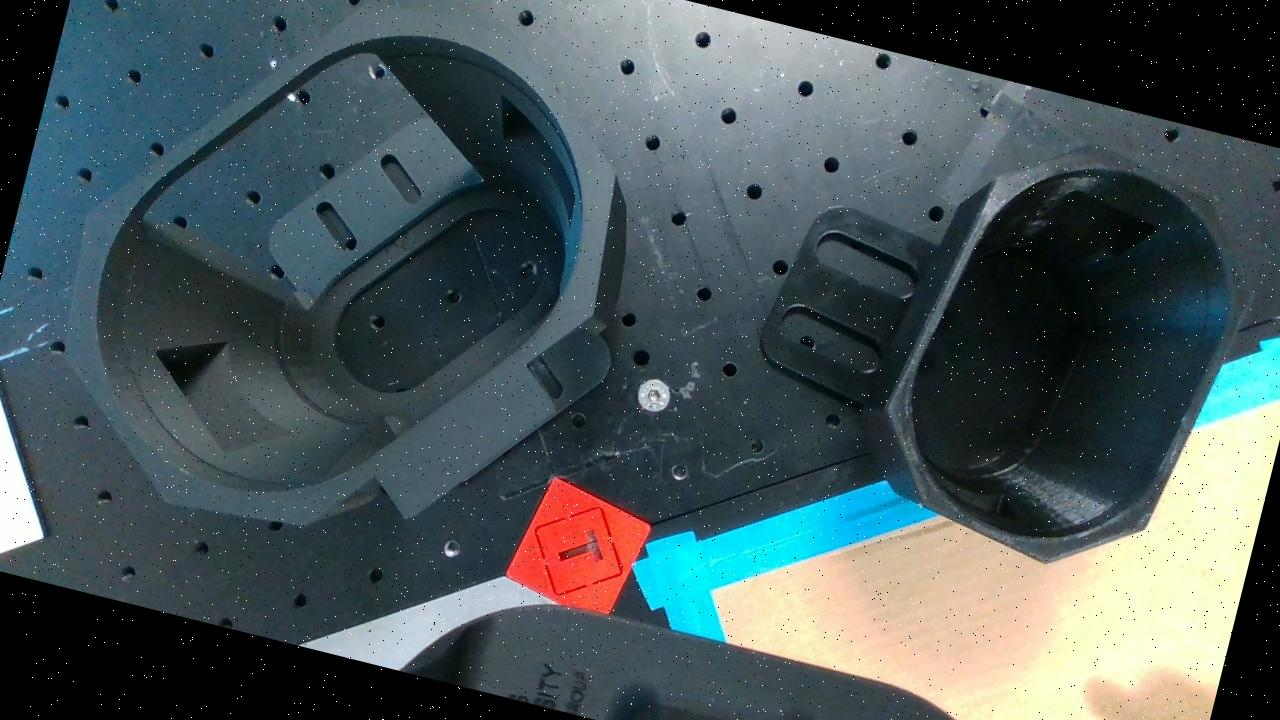big_interface: (22, 0, 657, 593)
small_interface: (859, 109, 1280, 599)
